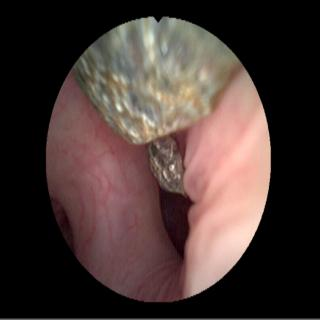stone: (75, 20, 238, 143), (147, 136, 186, 195)
tissue: (50, 78, 268, 295)
